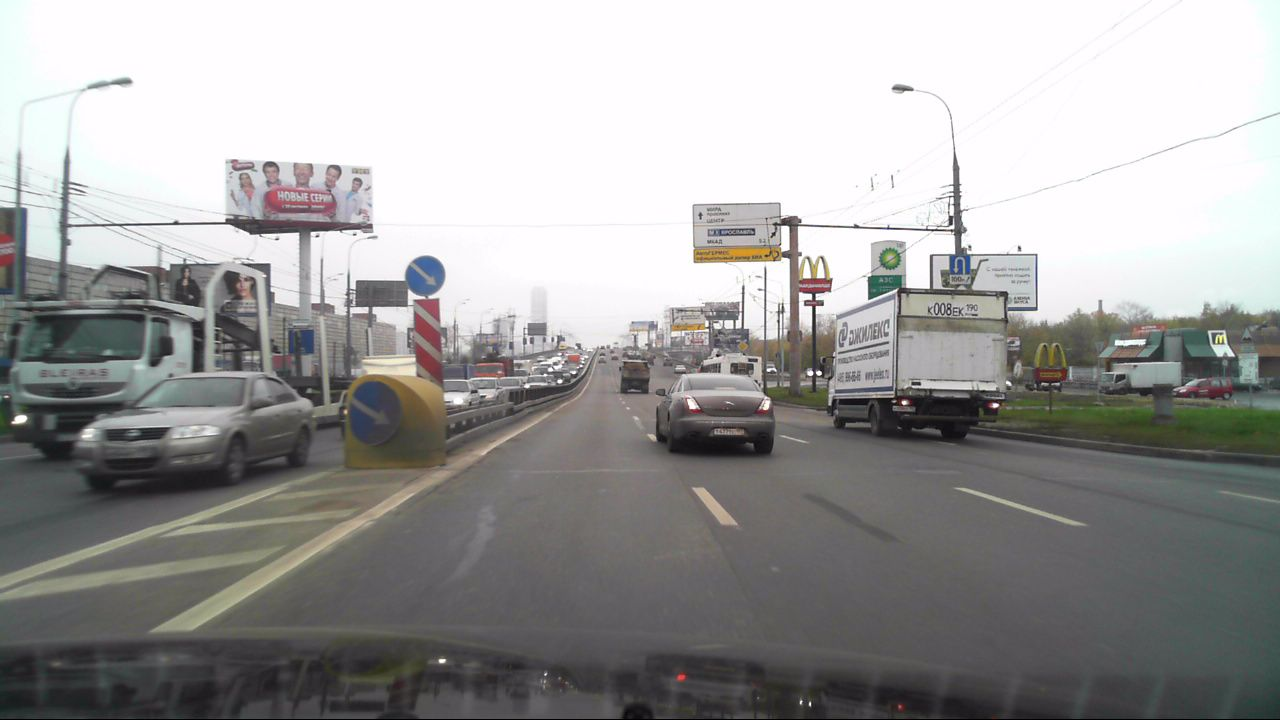U-turn: (949, 255, 970, 274)
